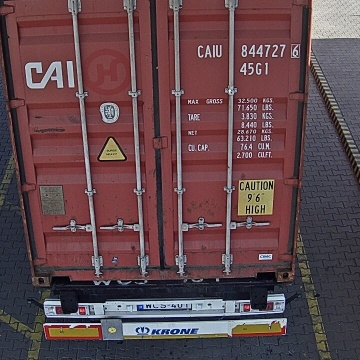serial_id: (198, 43, 300, 57)
